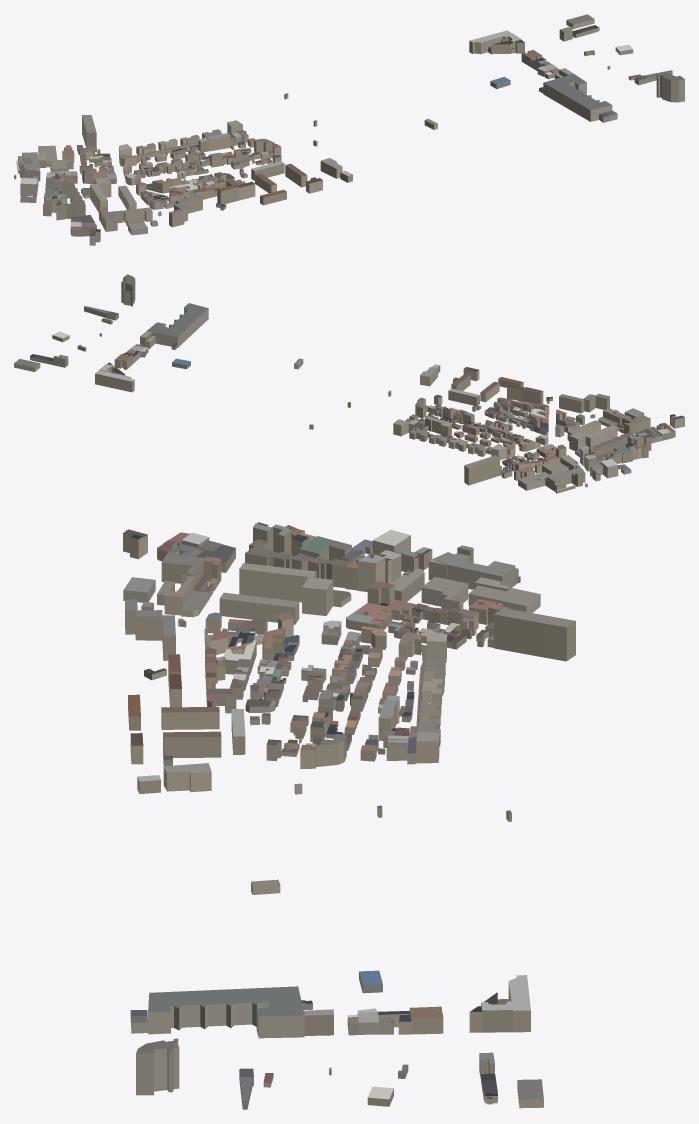
The picture shows the model from 3 angles, top to bottom: view 1: azimuth 30°, elevation 25°; view 2: azimuth 150°, elevation 25°; view 3: azimuth 270°, elevation 25°; orthographic projection. The views are drawn at different scales.
Visible parts, largest first — view 1: tuile; view 2: tuile; view 3: tuile.
Part boxes in pixels (x1,y1,x2,y2): tuile: [14, 14, 684, 245]; tuile: [14, 274, 684, 493]; tuile: [123, 522, 575, 1109].
Bounding box in the file's own units: 1017 × 36.61 × 346.
